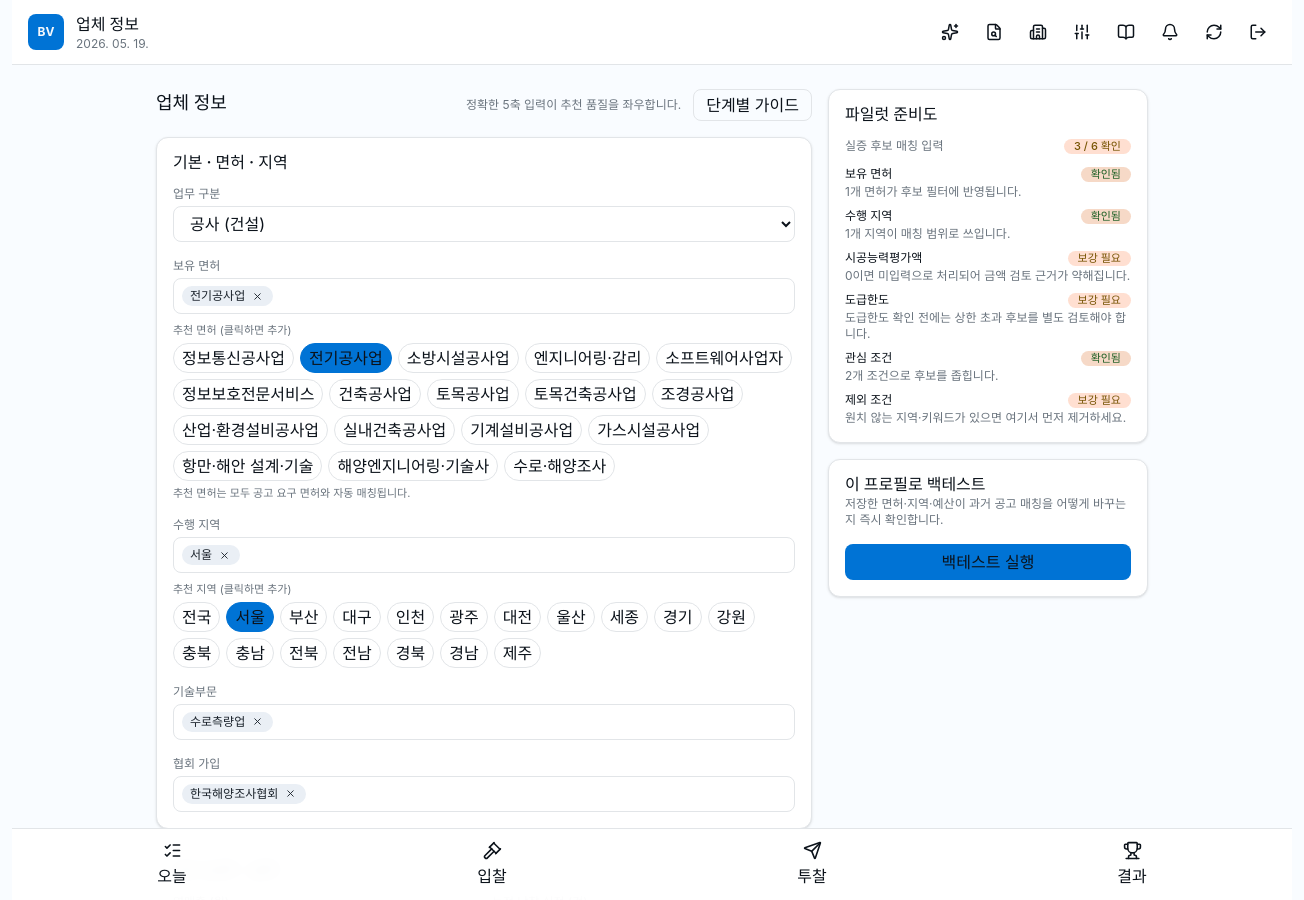
Scenario: CompanyInfoEditor › 등록 마법사 (profile_configured=false) › 헤더 토글로 single ↔ 마법사 전환이 동작한다
Check: the heading "업체 정보" is shown, box [156,89,227,117]
Step 1. Click the button "단계별 가이드" → x=753, y=105, box [693,89,812,121]
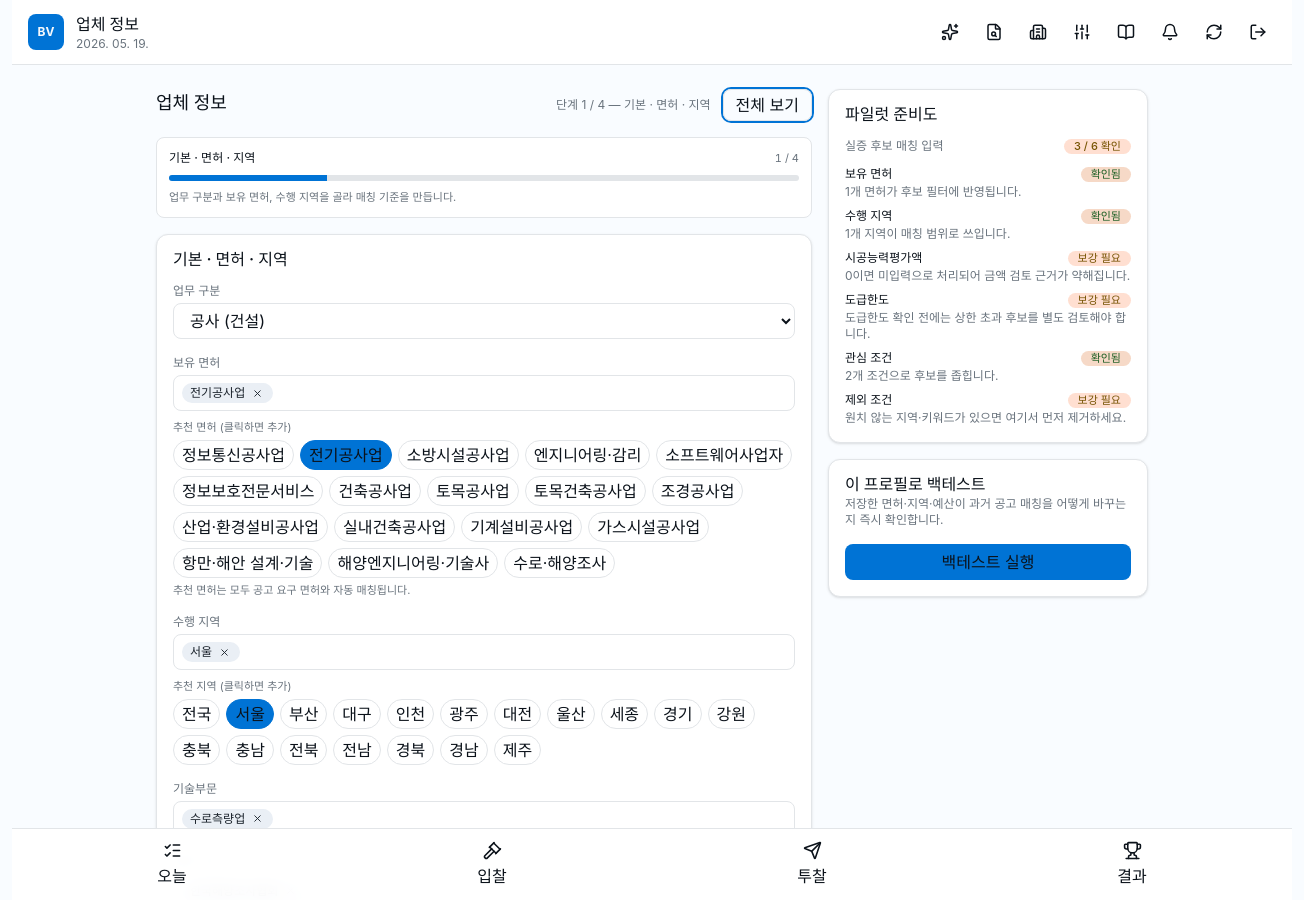
Check: the heading "공사 능력 · 실적" is not shown
Check: the text "단계 1 / 4 — 기본 · 면허 · 지역" is shown, box [556,97,711,113]
다시 single 모드로.
Step 2. Click the button "전체 보기" → x=767, y=105, box [723,89,812,121]
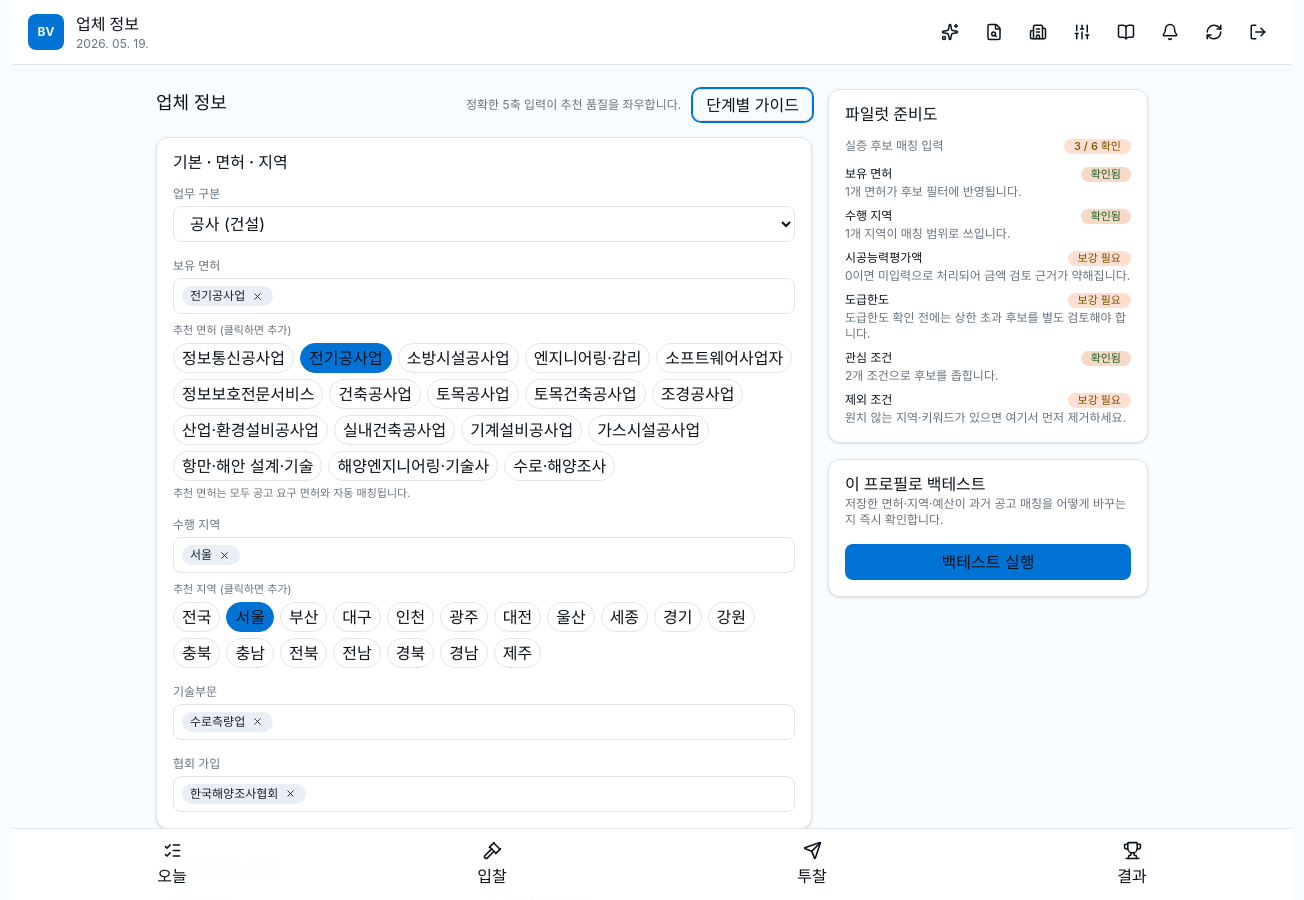
Check: the heading "공사 능력 · 실적" is shown, box [173,860,278,880]
Check: the text "단계 1 / 4 — 기본 · 면허 · 지역" is gone
